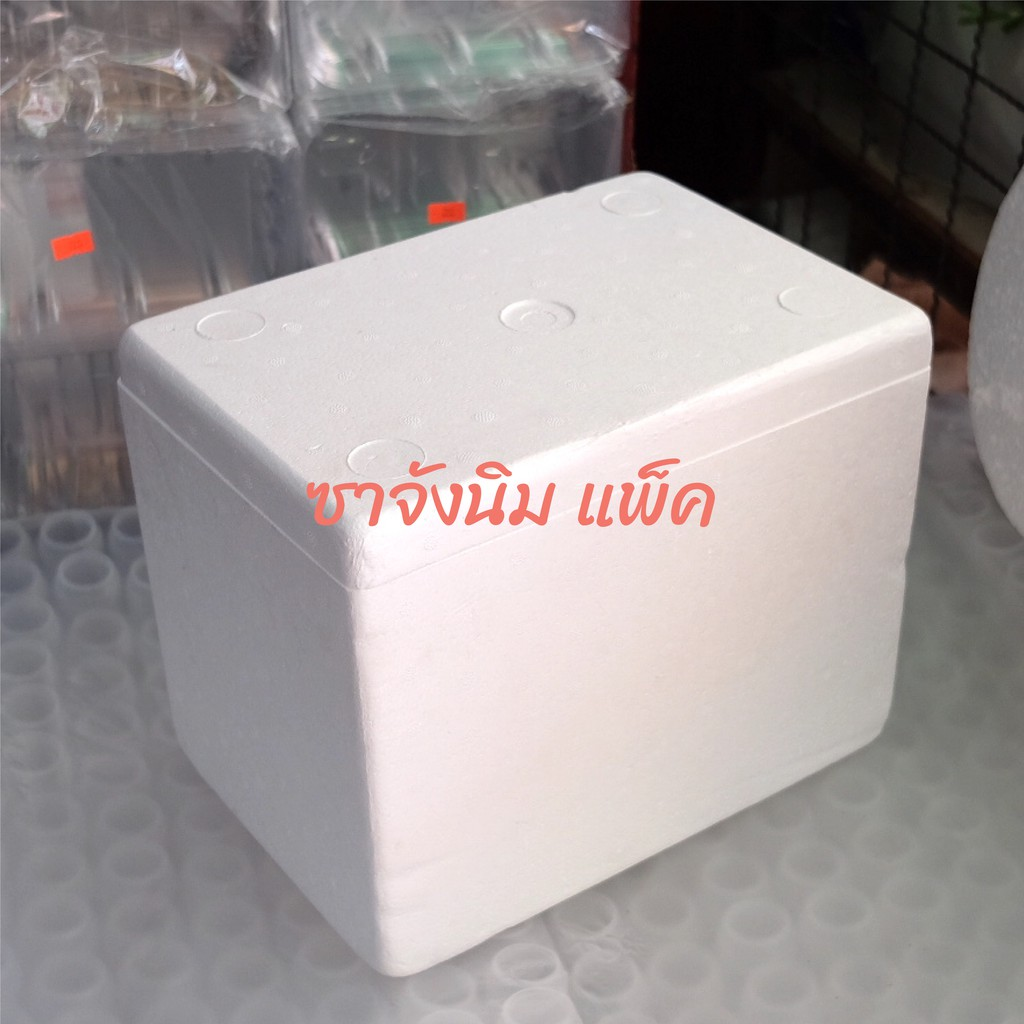Foam Box: (104, 161, 940, 986)
